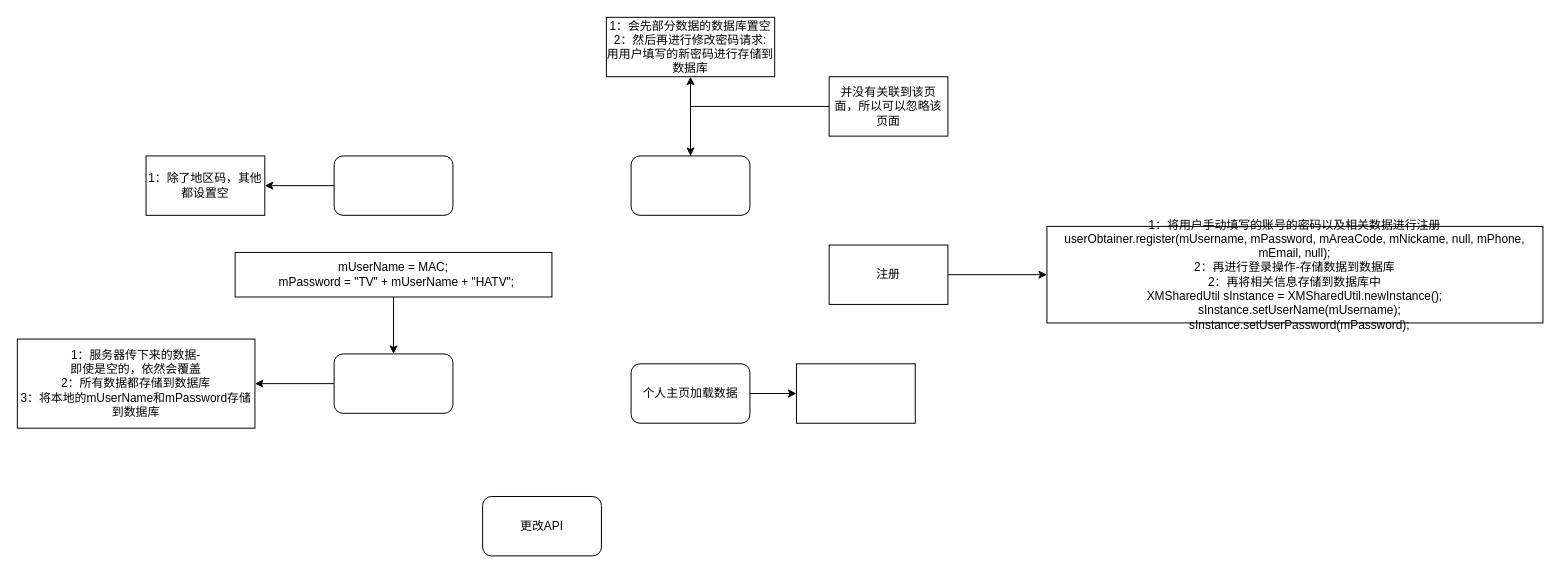
This 1560x573 diagram has some shape labels left out. The shapes that lost their labels are listed below. From the top down, each one's centre as x and y in pixels, then its label:
At (393,185): "CleanCache 清除缓存".
At (690,185): "修改密码".
At (393,383): "登录成功".
At (855,393): "服务器加载数据 缓存中加载数据 将缓存的数据再存储到数据库中".
